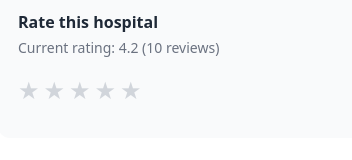
Test case: RatingWidget › shows sign-in prompt after clicking a star when unauthenticated
Click the button named "rate 1 star" at (29, 90), box [18,74,40,106]
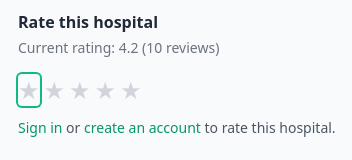
Expected: the message "Sign in or create an account to rate this hospital." is shown, [18,118,336,137]
Expected: the link "Sign in" is shown, [18,118,62,137]
Expected: the link "create an account" is shown, [84,118,201,137]
